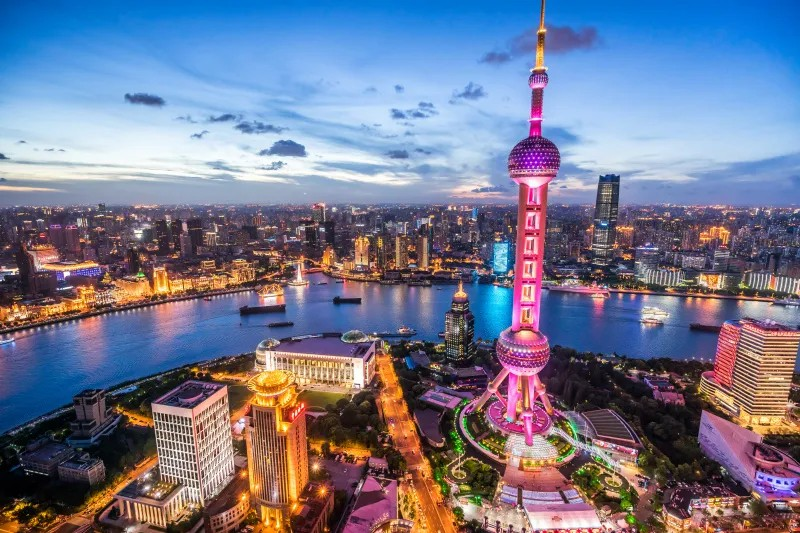Oriental: (474, 1, 556, 445)
